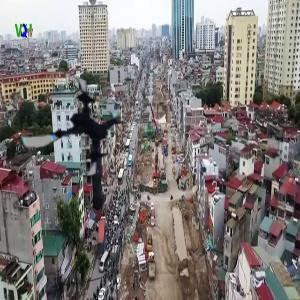drone: (18, 73, 129, 184)
